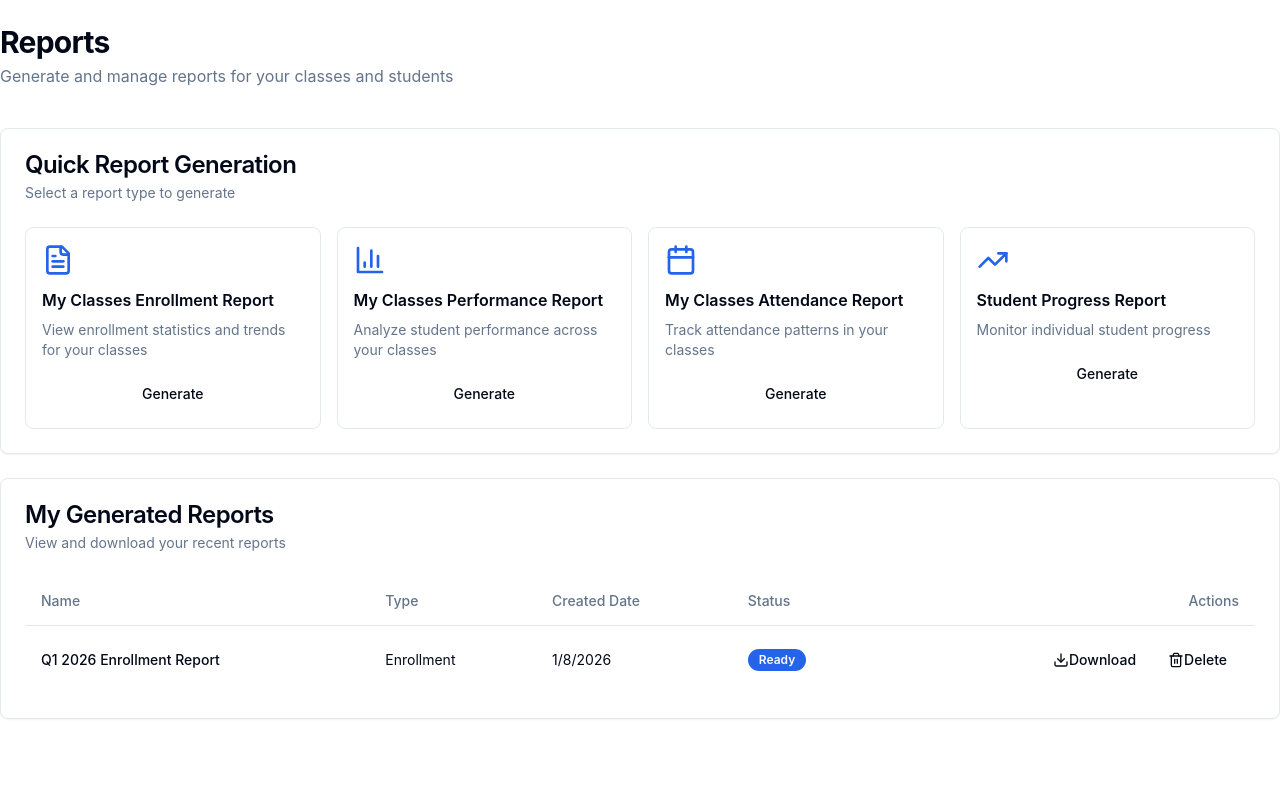
it: StaffReportsPage › Delete Report Action › should delete report when clicking delete button
Expected: the text "Q1 2026 Enrollment Report" is shown, [25,625,369,694]
Click the button "Delete": [1198, 660] box [1156,642,1239,678]
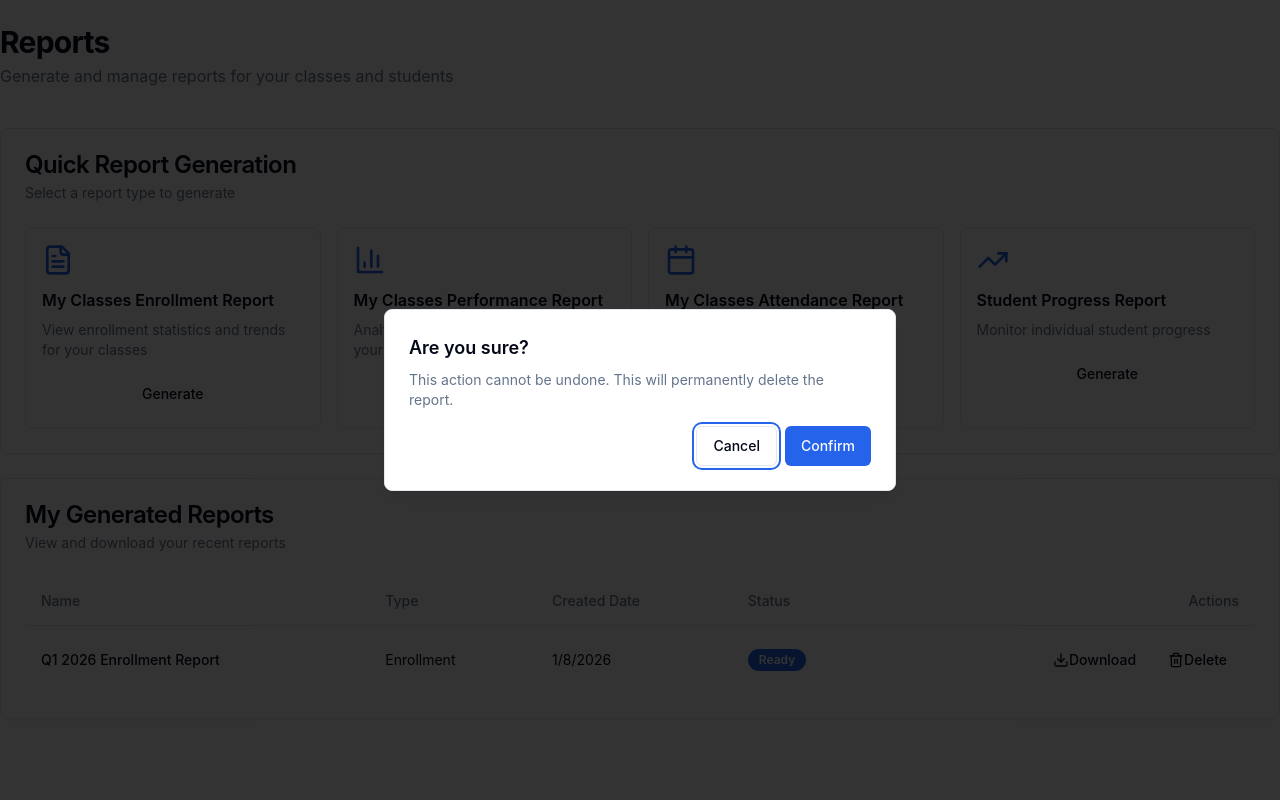
Result: the heading "Are you sure?" is shown at [409,337,529,358]
Click the button "Confirm": [828, 446] box [785,426,871,466]
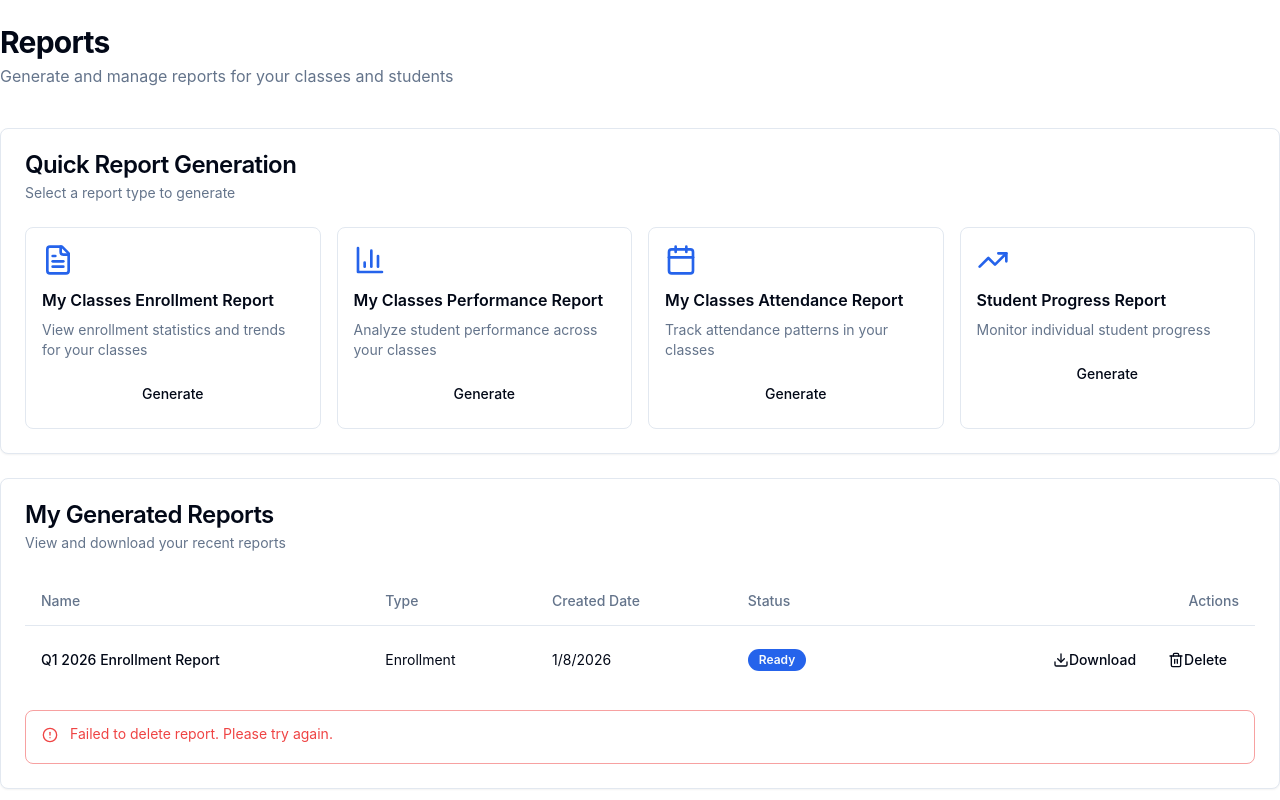
Result: the heading "Are you sure" is gone
